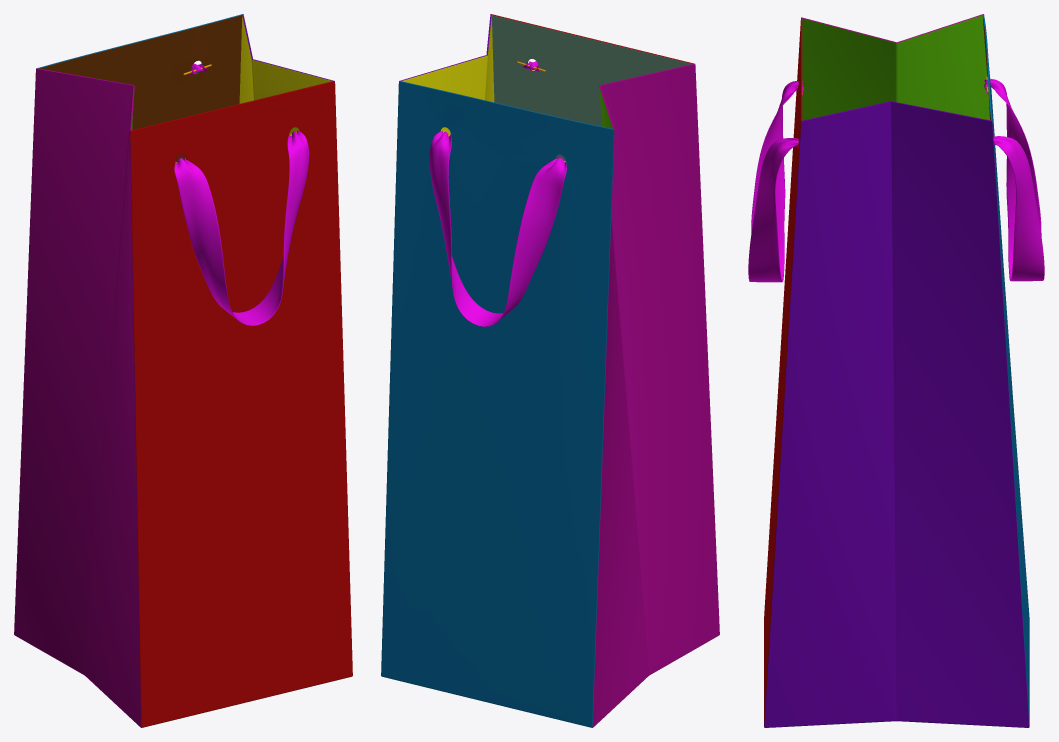
The model's file is tall_paper_bag.fbx.
3 renders of one model, left to right at view 1: azimuth 30°, elevation 25°; view 2: azimuth 150°, elevation 25°; view 3: azimuth 270°, elevation 25°, orthographic. The views are drawn at different scales.
Parts seen in each view (by area): view 1: wine_paper_bag; view 2: wine_paper_bag; view 3: wine_paper_bag.
Part boxes in pixels (x1,y1,x2,y2): wine_paper_bag: (14,14,352,727); wine_paper_bag: (381,14,719,727); wine_paper_bag: (748,14,1044,727).
Size of the model in its own units: 11.48 by 30.2 by 13.36.
